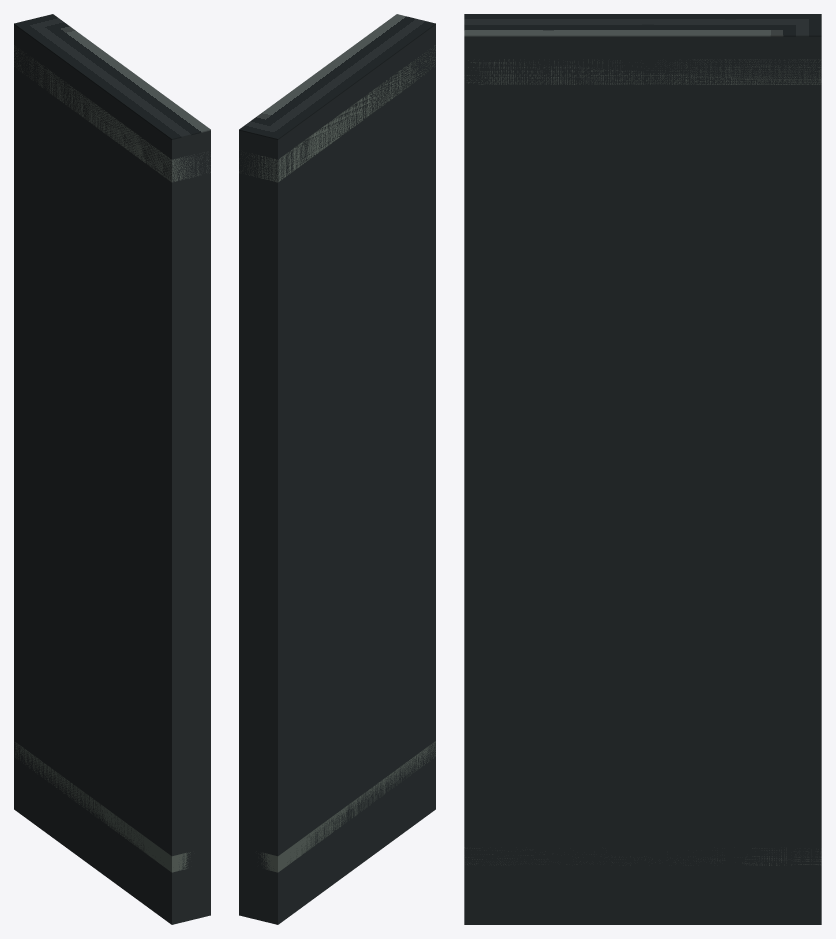
File: CMU3DInteriorVehicleAPCCornerSmallL.glb
The picture shows the model from 3 angles, left to right: view 1: azimuth 30°, elevation 25°; view 2: azimuth 150°, elevation 25°; view 3: azimuth 270°, elevation 25°; orthographic projection. The views are drawn at different scales.
Visible parts, largest first — view 1: cabin bulkhead, cabin bulkhead source finish, upper armor trim, lower armor trim; view 2: cabin bulkhead, cabin bulkhead source finish, upper armor trim, lower armor trim; view 3: cabin bulkhead, cabin bulkhead source finish, upper armor trim.
Boxes of the visible parts, bbox=[...] form: cabin bulkhead: bbox=[14, 25, 210, 924]; cabin bulkhead source finish: bbox=[14, 14, 210, 139]; upper armor trim: bbox=[14, 45, 210, 182]; lower armor trim: bbox=[14, 742, 190, 872]; cabin bulkhead: bbox=[239, 25, 435, 924]; cabin bulkhead source finish: bbox=[239, 14, 435, 139]; upper armor trim: bbox=[239, 45, 435, 182]; lower armor trim: bbox=[256, 741, 435, 872]; cabin bulkhead: bbox=[464, 36, 821, 924]; cabin bulkhead source finish: bbox=[464, 14, 821, 36]; upper armor trim: bbox=[467, 59, 821, 84].
Size of the model in its own units: 0.125 by 2.4 by 0.875.
Materials: 4 (1 with a texture image).
